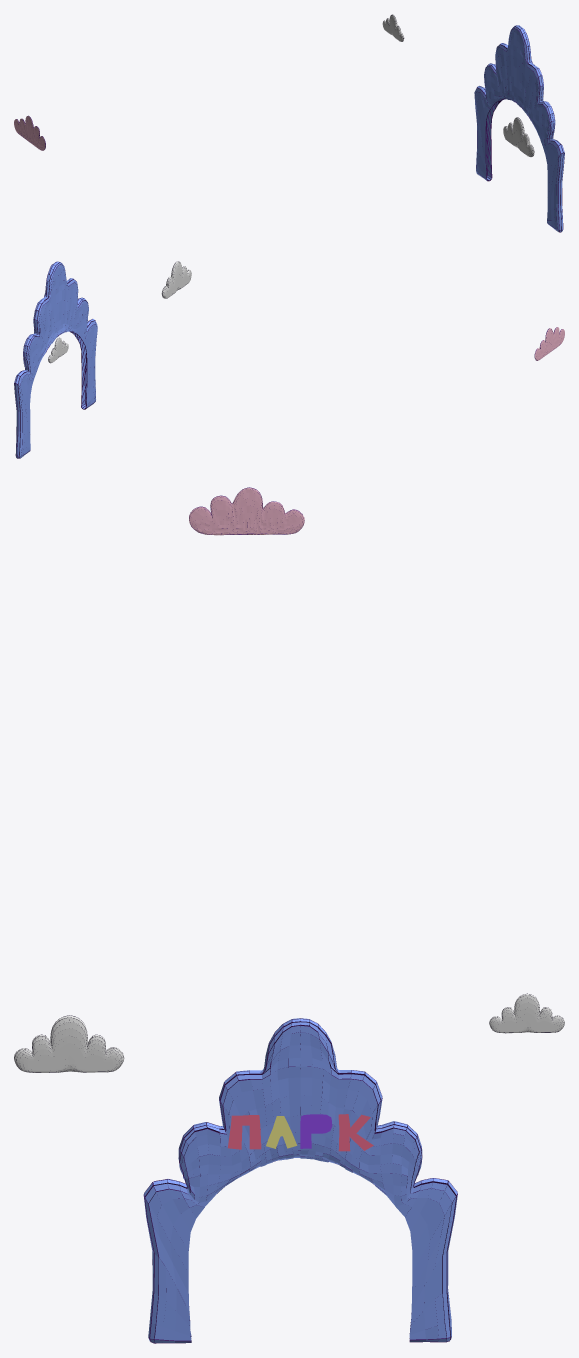
Rendered from park!!.fbx.
3 views of the same model, one above another, from view 1: azimuth 30°, elevation 25°; view 2: azimuth 150°, elevation 25°; view 3: azimuth 270°, elevation 25° (orthographic). The views are drawn at different scales.
Parts seen in each view (by area): view 1: арка, Plane.075, Plane.024, Plane.001; view 2: арка, Plane.075, Plane.024, Plane.001; view 3: арка, Plane.075, Plane.024, Plane.001.
Part boxes in pixels (left/top/right/bottom): арка: left=474, top=25, right=564, bottom=232; Plane.075: left=503, top=117, right=534, bottom=157; Plane.024: left=14, top=115, right=45, bottom=150; Plane.001: left=382, top=14, right=404, bottom=41; арка: left=14, top=261, right=97, bottom=458; Plane.075: left=161, top=261, right=191, bottom=298; Plane.024: left=534, top=327, right=564, bottom=360; Plane.001: left=48, top=337, right=68, bottom=363; арка: left=143, top=1018, right=457, bottom=1343; Plane.075: left=14, top=1015, right=124, bottom=1072; Plane.024: left=189, top=487, right=304, bottom=535; Plane.001: left=489, top=993, right=564, bottom=1033.
Bounding box in the file's own units: 1245 × 515 × 637.
